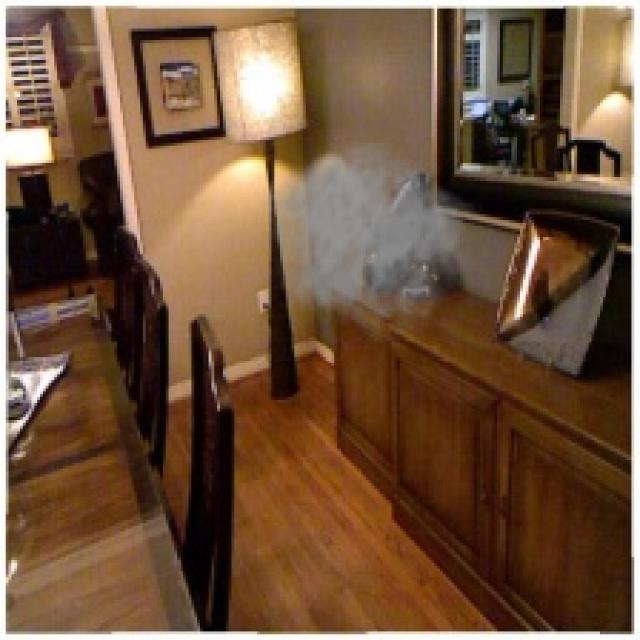smoke: (263, 140, 483, 346)
